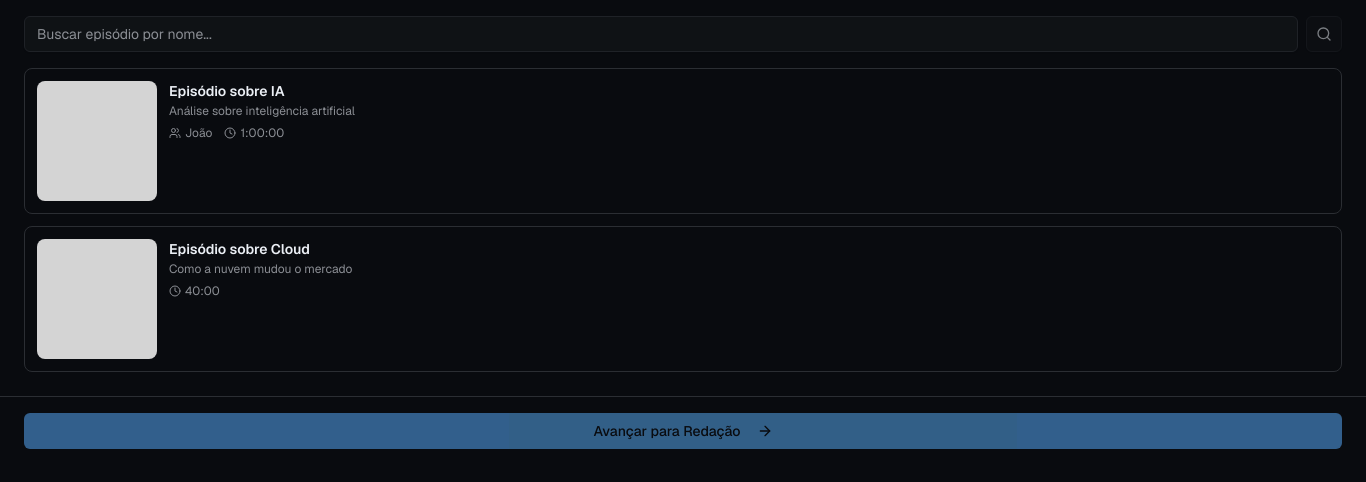
Scenario: NewsEpisodesPhase › selects episode on click and enables advance button
Click the button with test id "episode-card-ep-1" at [683, 141], box [24, 68, 1342, 214]
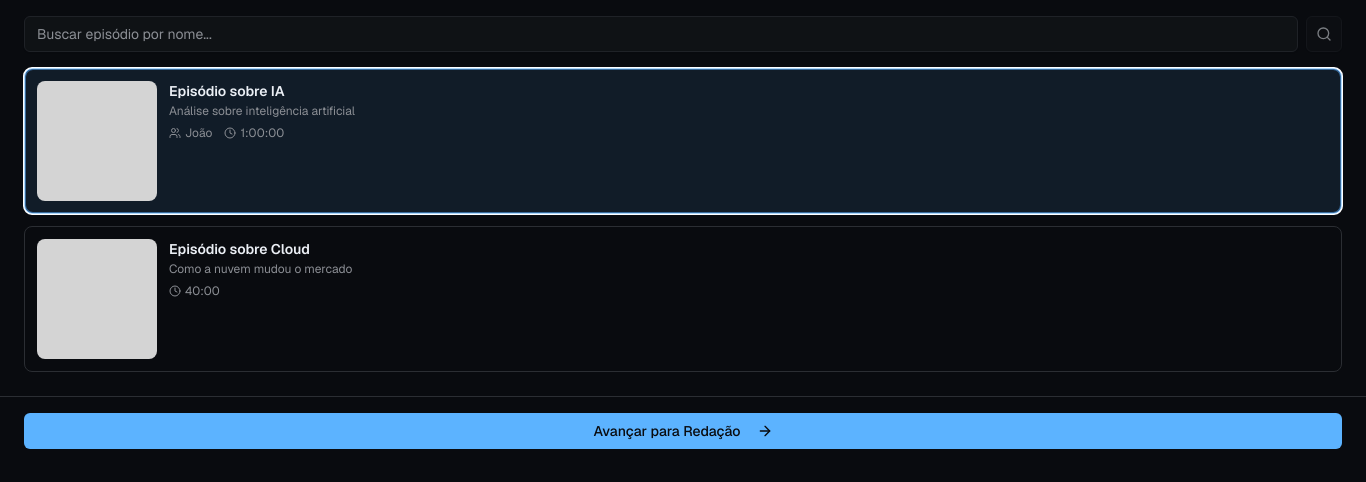
Result: the button with test id "advance-to-social-button" is enabled at [24, 413, 1342, 449]
